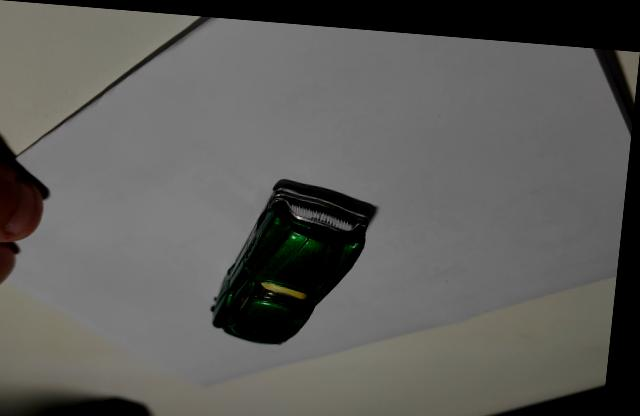06_MASERATI: (217, 178, 382, 339)
